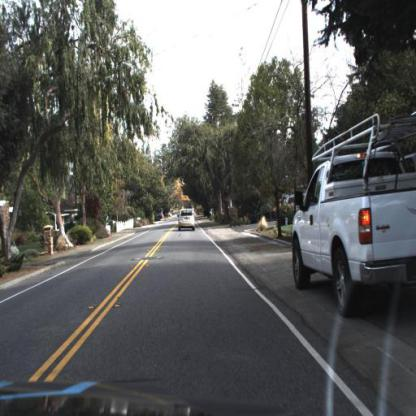car: (288, 112, 416, 321), (278, 188, 308, 226), (177, 209, 197, 238)
